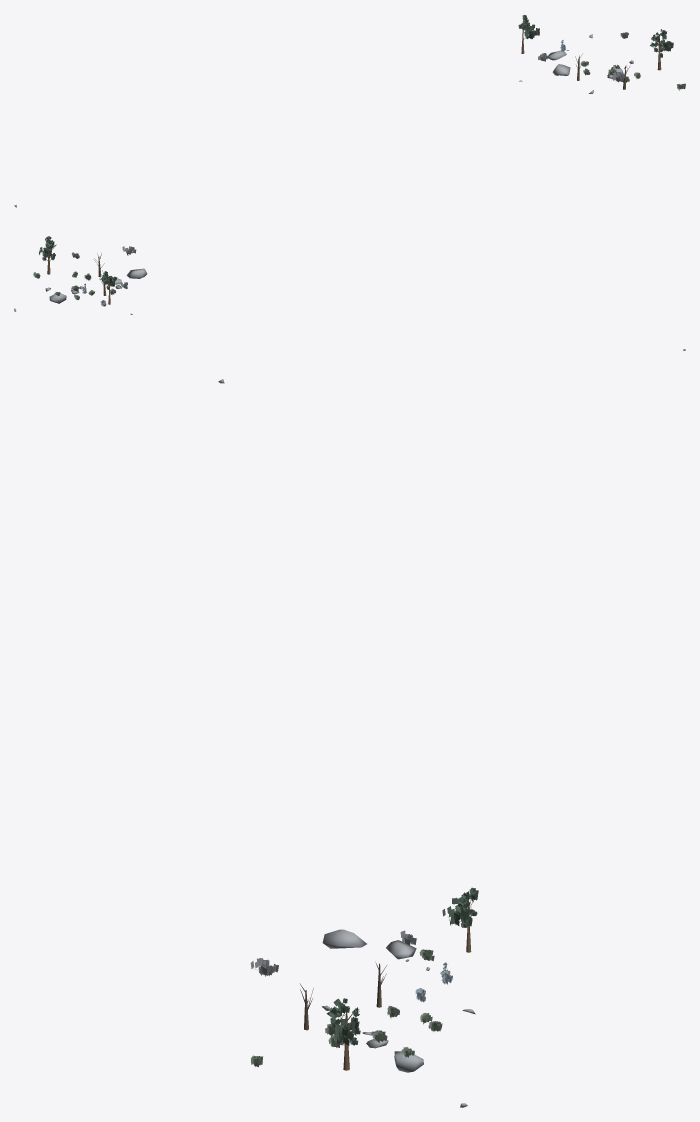
The model's file is frost_land_scatter_c14_12.glb.
3 views of the same model, one above another, from view 1: azimuth 30°, elevation 25°; view 2: azimuth 150°, elevation 25°; view 3: azimuth 270°, elevation 25° (orthographic). The views are drawn at different scales.
Visible parts, largest first — view 1: frost_land_scatter_c14_12; view 2: frost_land_scatter_c14_12; view 3: frost_land_scatter_c14_12.
Boxes of the visible parts, x1,y1,x2,y2 form: frost_land_scatter_c14_12: (14,15,685,207); frost_land_scatter_c14_12: (14,236,685,350); frost_land_scatter_c14_12: (218,379,478,1107).
Bounding box in the file's own units: 154 × 15.99 × 28.56.
